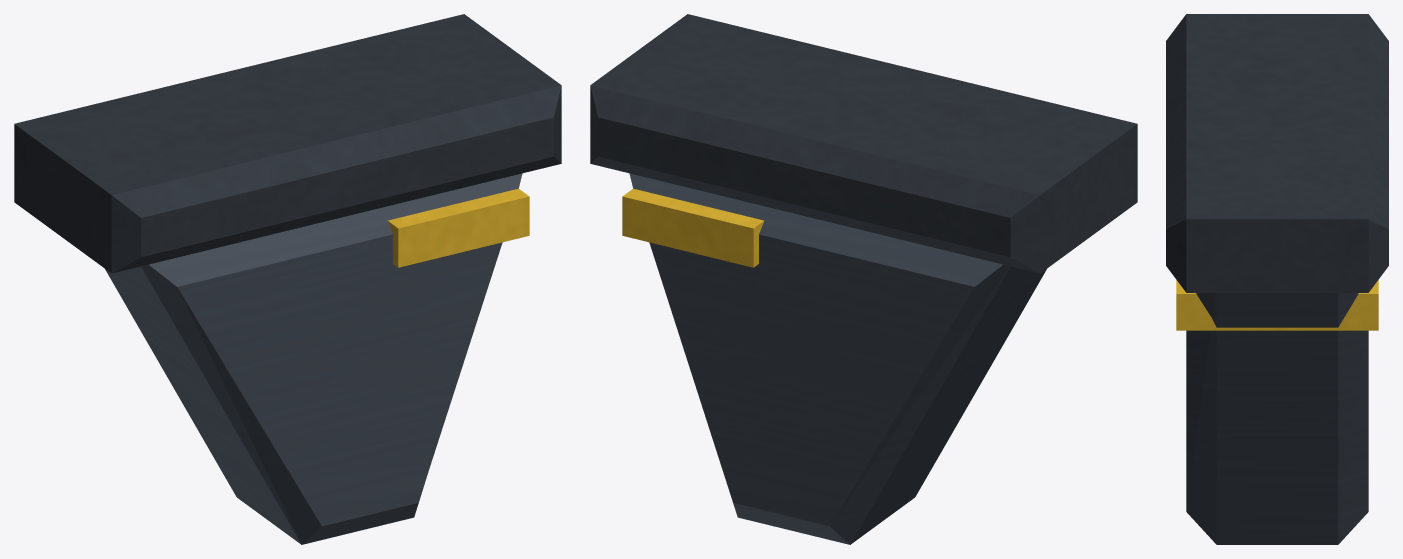
Rendered from grip_handstop_v2.glb.
3 views of the same model, side by side, from view 1: azimuth 30°, elevation 25°; view 2: azimuth 150°, elevation 25°; view 3: azimuth 270°, elevation 25° (orthographic). The views are drawn at different scales.
Parts seen in each view (by area): view 1: grip_handstop_mesh; view 2: grip_handstop_mesh; view 3: grip_handstop_mesh.
Part boxes in pixels (box(x1,y1,x2,y2)): grip_handstop_mesh: box(14, 14, 561, 544); grip_handstop_mesh: box(590, 14, 1137, 544); grip_handstop_mesh: box(1166, 14, 1388, 544).
Size of the model in its own units: 0.048 by 0.042 by 0.022.
3 materials, 3 textured.
